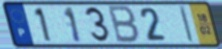1: (62, 5, 85, 44), (32, 7, 54, 43)
2: (139, 6, 168, 42)
3: (85, 5, 112, 44)
B: (107, 5, 141, 45)
I: (178, 5, 196, 44)
